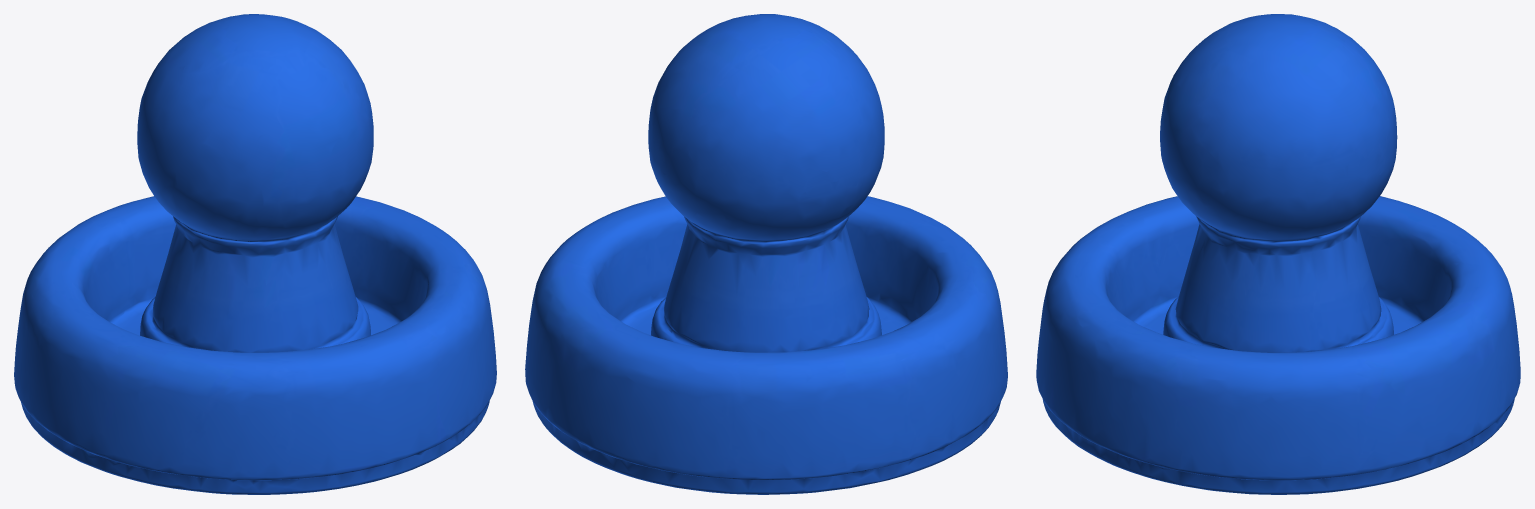
File: mallet.glb
3 views of the same model, side by side, from view 1: azimuth 30°, elevation 25°; view 2: azimuth 150°, elevation 25°; view 3: azimuth 270°, elevation 25° (orthographic).
Visible parts, largest first — view 1: tripo_node_0dddb5d3-0fc7-42ee-9d39-bdffa5c00d76; view 2: tripo_node_0dddb5d3-0fc7-42ee-9d39-bdffa5c00d76; view 3: tripo_node_0dddb5d3-0fc7-42ee-9d39-bdffa5c00d76.
Boxes of the visible parts, x1=… form: tripo_node_0dddb5d3-0fc7-42ee-9d39-bdffa5c00d76: x1=14, y1=14, x2=496, y2=494; tripo_node_0dddb5d3-0fc7-42ee-9d39-bdffa5c00d76: x1=525, y1=14, x2=1007, y2=494; tripo_node_0dddb5d3-0fc7-42ee-9d39-bdffa5c00d76: x1=1036, y1=14, x2=1520, y2=494.
Size of the model in its own units: 1 by 0.8534 by 1.
Materials: 1 (1 with a texture image).
